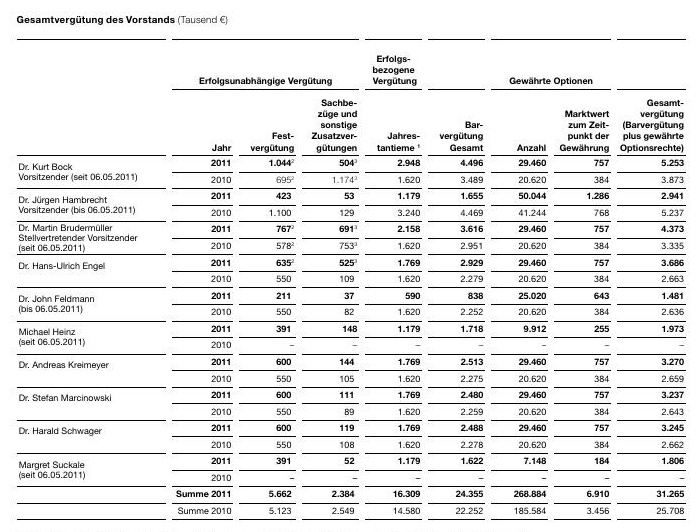table: (0, 0, 699, 532)
